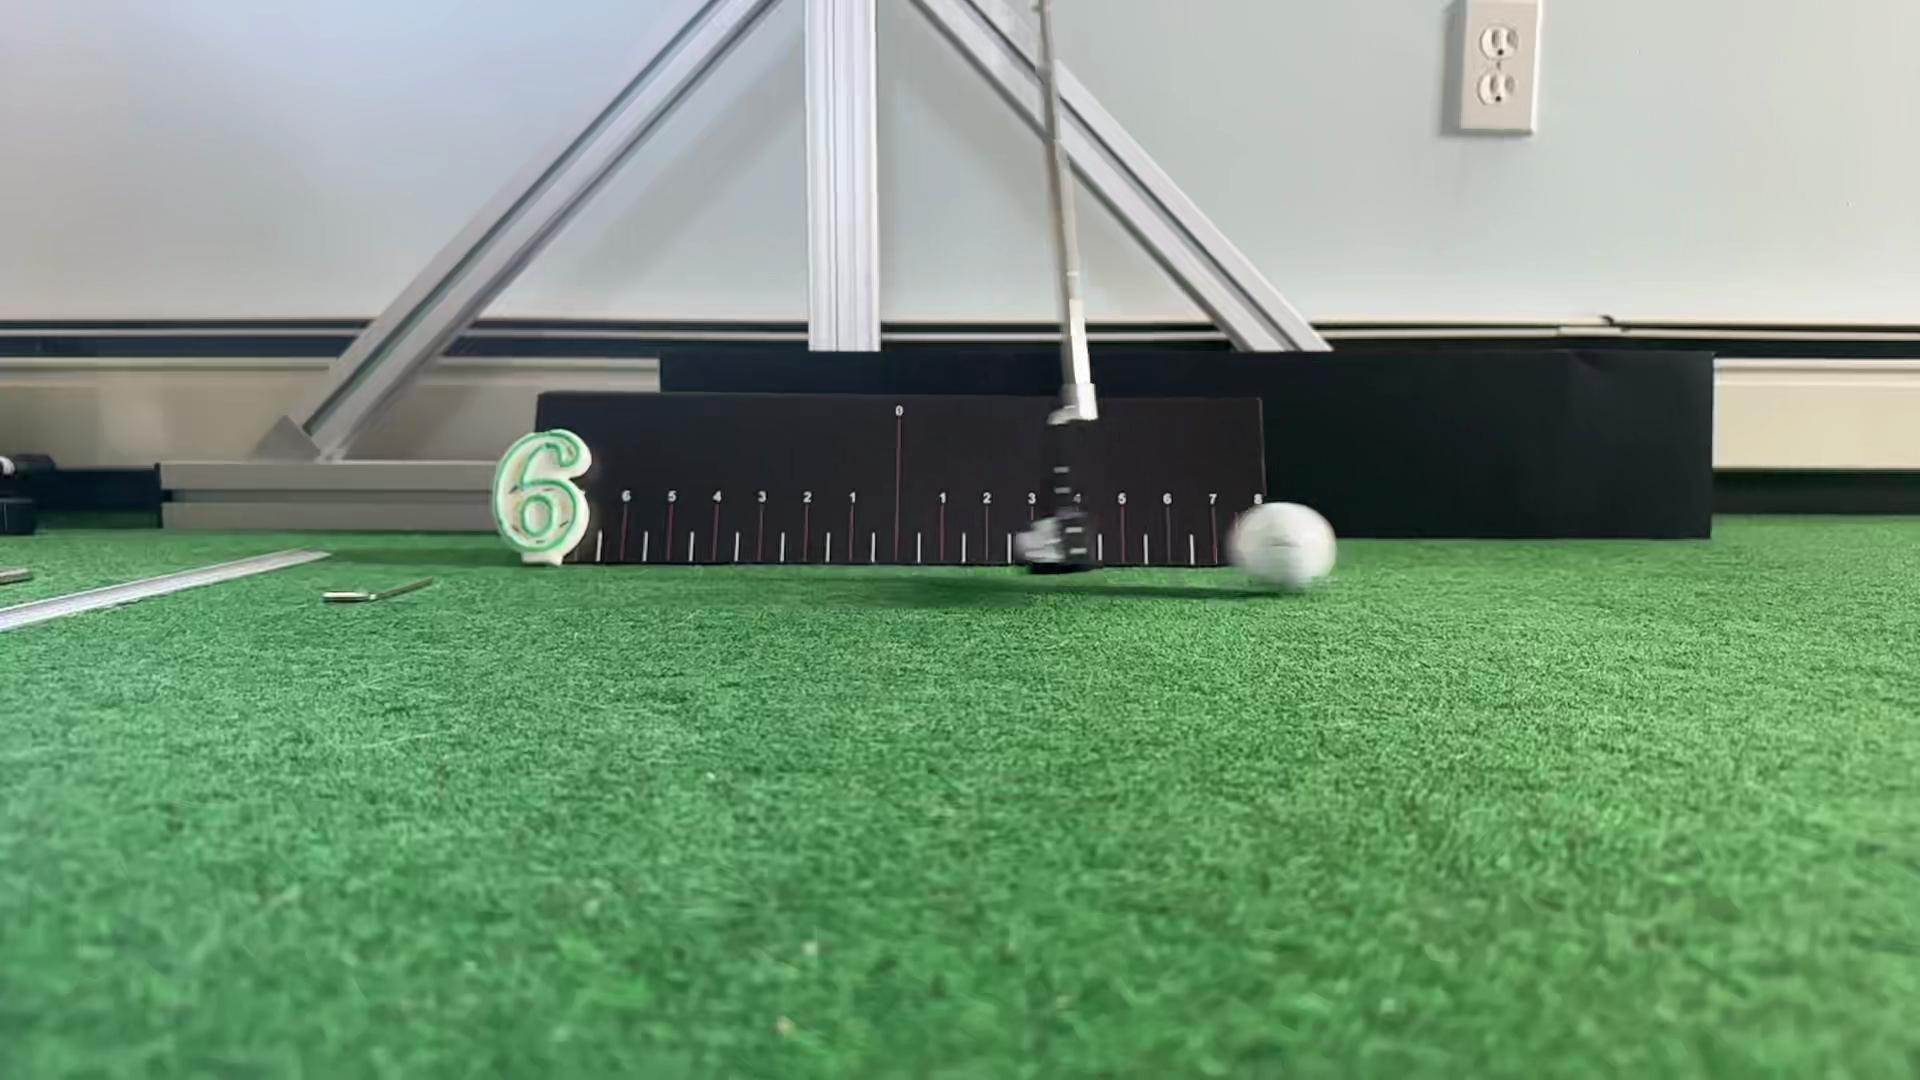golfball: (1231, 503, 1337, 593)
